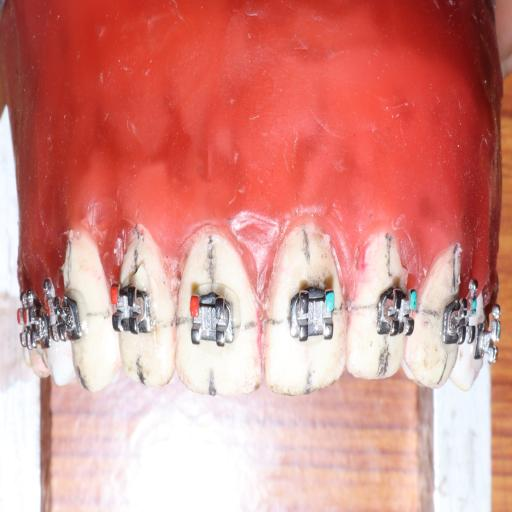incorrect_brace: (185, 287, 241, 354), (288, 282, 337, 346)
